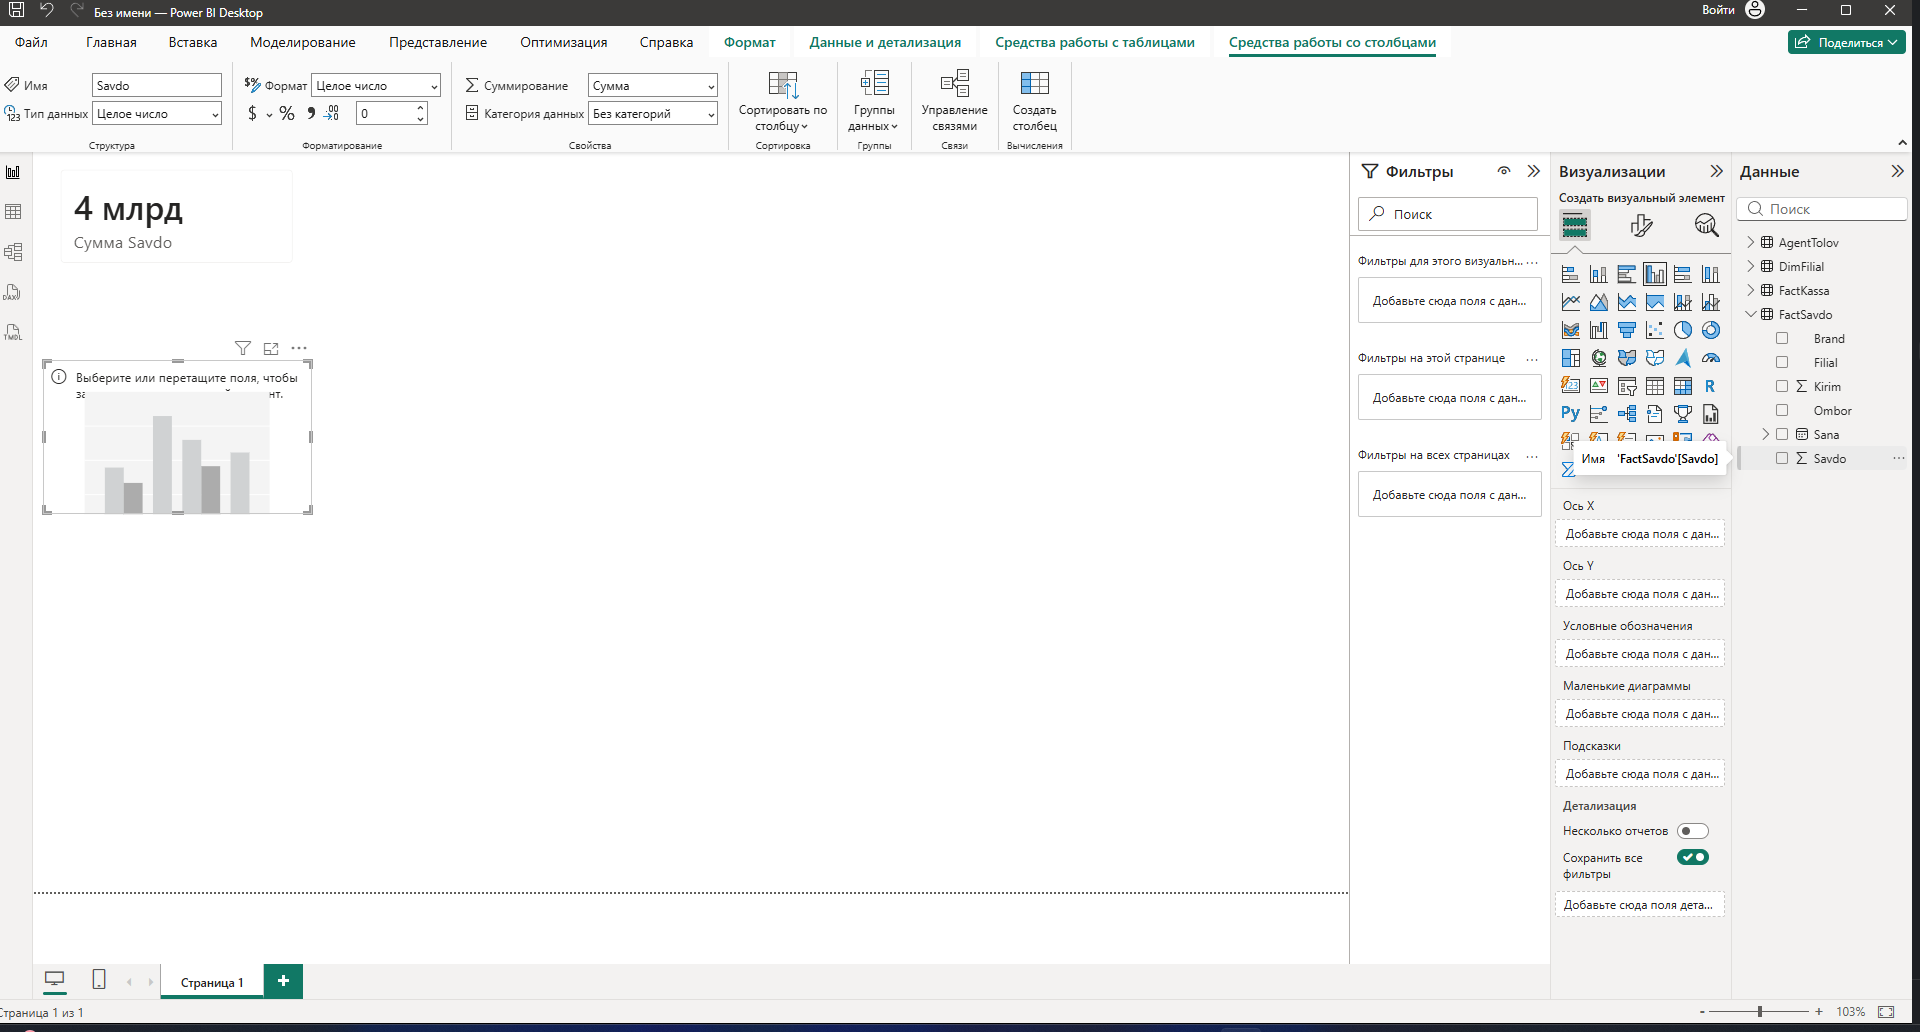

What the dashboard file says about the page in this screenshot:
{"tool":"powerbi","page":{"name":"Страница 1","canvas":[1280,720],"ordinal":0},"visuals":[{"type":"cardVisual","fields":{"Data":["Sum(FactSavdo.Savdo)"]},"box":[9.7,0,260.7,125.5],"z":0},{"type":"cardVisual","fields":{"Data":["Sum(FactKassa.Qarzdorlik)"]},"box":[10,159.5,261,150],"z":2},{"type":"clusteredColumnChart","fields":{"Category":["FactSavdo.Filial"],"Y":["Sum(FactSavdo.Savdo)"]},"box":[10,10,1157,150],"z":3}]}

Visuals, with their boxes on the page's 1280x720 design canvas (x1, y1, x2, y2). These are canvas units, not pixel positions in the 1920x1032 screenshot, which may show the page scaled, cropped or inside an application window:
cardVisual - Sum(FactSavdo.Savdo): (x1=10, y1=0, x2=270, y2=126)
cardVisual - Sum(FactKassa.Qarzdorlik): (x1=10, y1=160, x2=271, y2=310)
clusteredColumnChart - FactSavdo.Filial x Sum(FactSavdo.Savdo): (x1=10, y1=10, x2=1167, y2=160)
